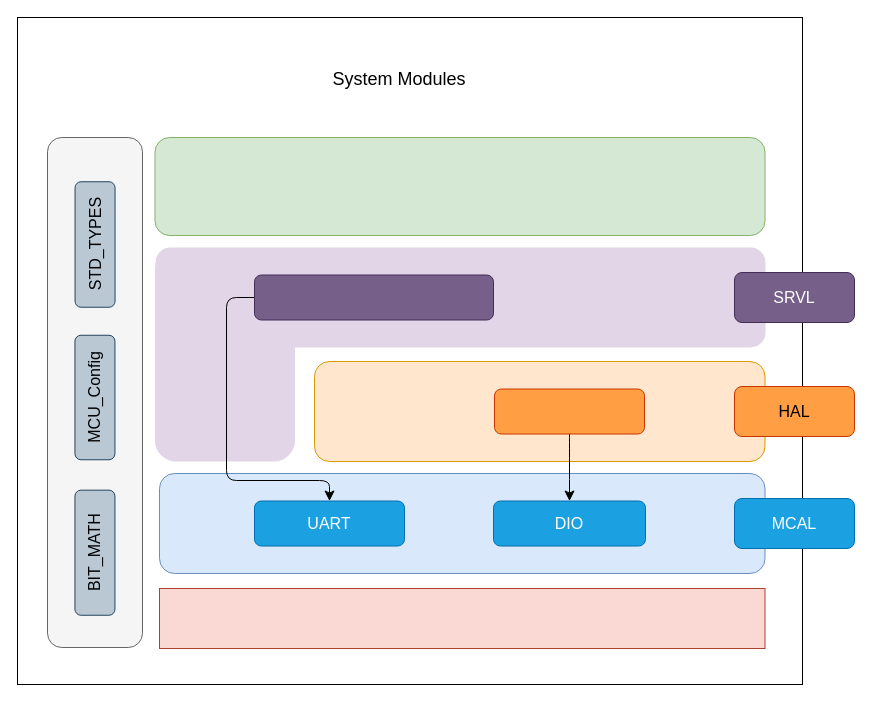
Some shapes in this 872 by 702 pixel diagram are drawn without their labels. Each missing label, with the box of its shape:
Application Layer: (154, 136, 765, 236)
BCM: (254, 274, 494, 320)
LED: (494, 388, 644, 434)
Microcontroller: (158, 588, 765, 648)
